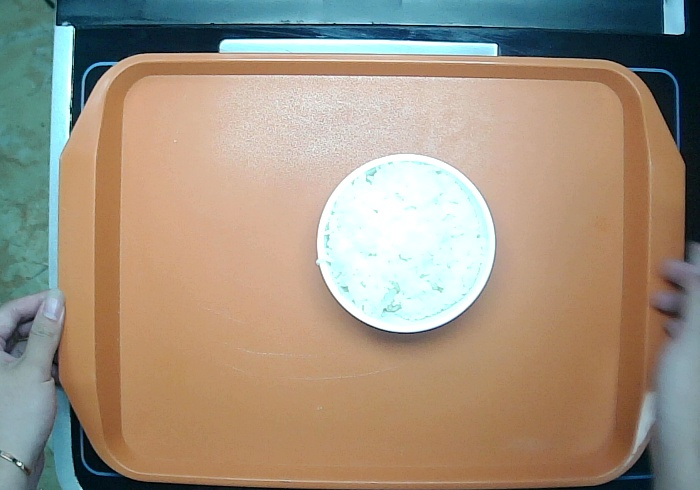HZYJPL-Fan_Wan: (307, 142, 505, 344)
